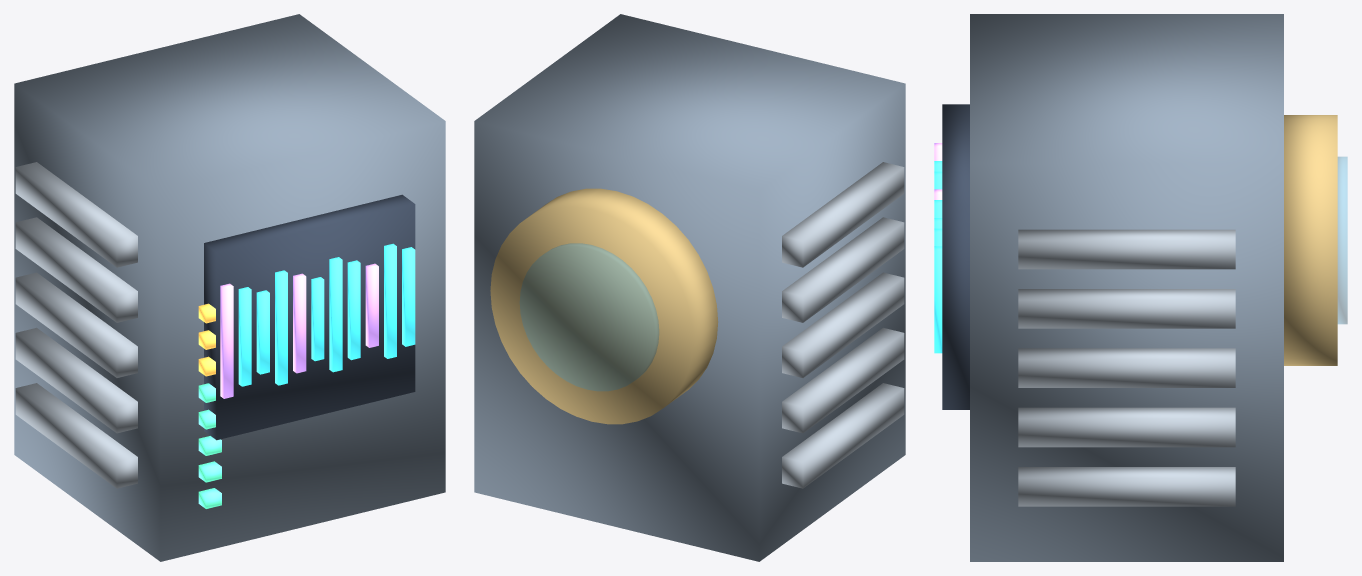
File: 28_L91_XRayPhotonDetectorA.glb
3 renders of one model, left to right at view 1: azimuth 30°, elevation 25°; view 2: azimuth 150°, elevation 25°; view 3: azimuth 270°, elevation 25°, orthographic. The views are drawn at different scales.
Parts seen in each view (by area): view 1: L91_XRayPhotonDetectorA, L91_XRayPhotonDetectorA_Part_0003, L91_XRayPhotonDetectorA_Part_0002, L91_XRayPhotonDetectorA_Part_0006, L91_XRayPhotonDetectorA_Part_0007; view 2: L91_XRayPhotonDetectorA; view 3: L91_XRayPhotonDetectorA, L91_XRayPhotonDetectorA_Part_0003.
Boxes of the visible parts, x1,y1,x2,y2 form: L91_XRayPhotonDetectorA: [14, 14, 445, 561]; L91_XRayPhotonDetectorA_Part_0003: [238, 243, 415, 386]; L91_XRayPhotonDetectorA_Part_0002: [220, 263, 378, 398]; L91_XRayPhotonDetectorA_Part_0006: [198, 383, 221, 508]; L91_XRayPhotonDetectorA_Part_0007: [198, 303, 215, 376]; L91_XRayPhotonDetectorA: [474, 14, 905, 561]; L91_XRayPhotonDetectorA: [942, 14, 1347, 561]; L91_XRayPhotonDetectorA_Part_0003: [934, 161, 942, 353].
Bounding box in the file's own units: 1.55 × 1.68 × 1.58.
